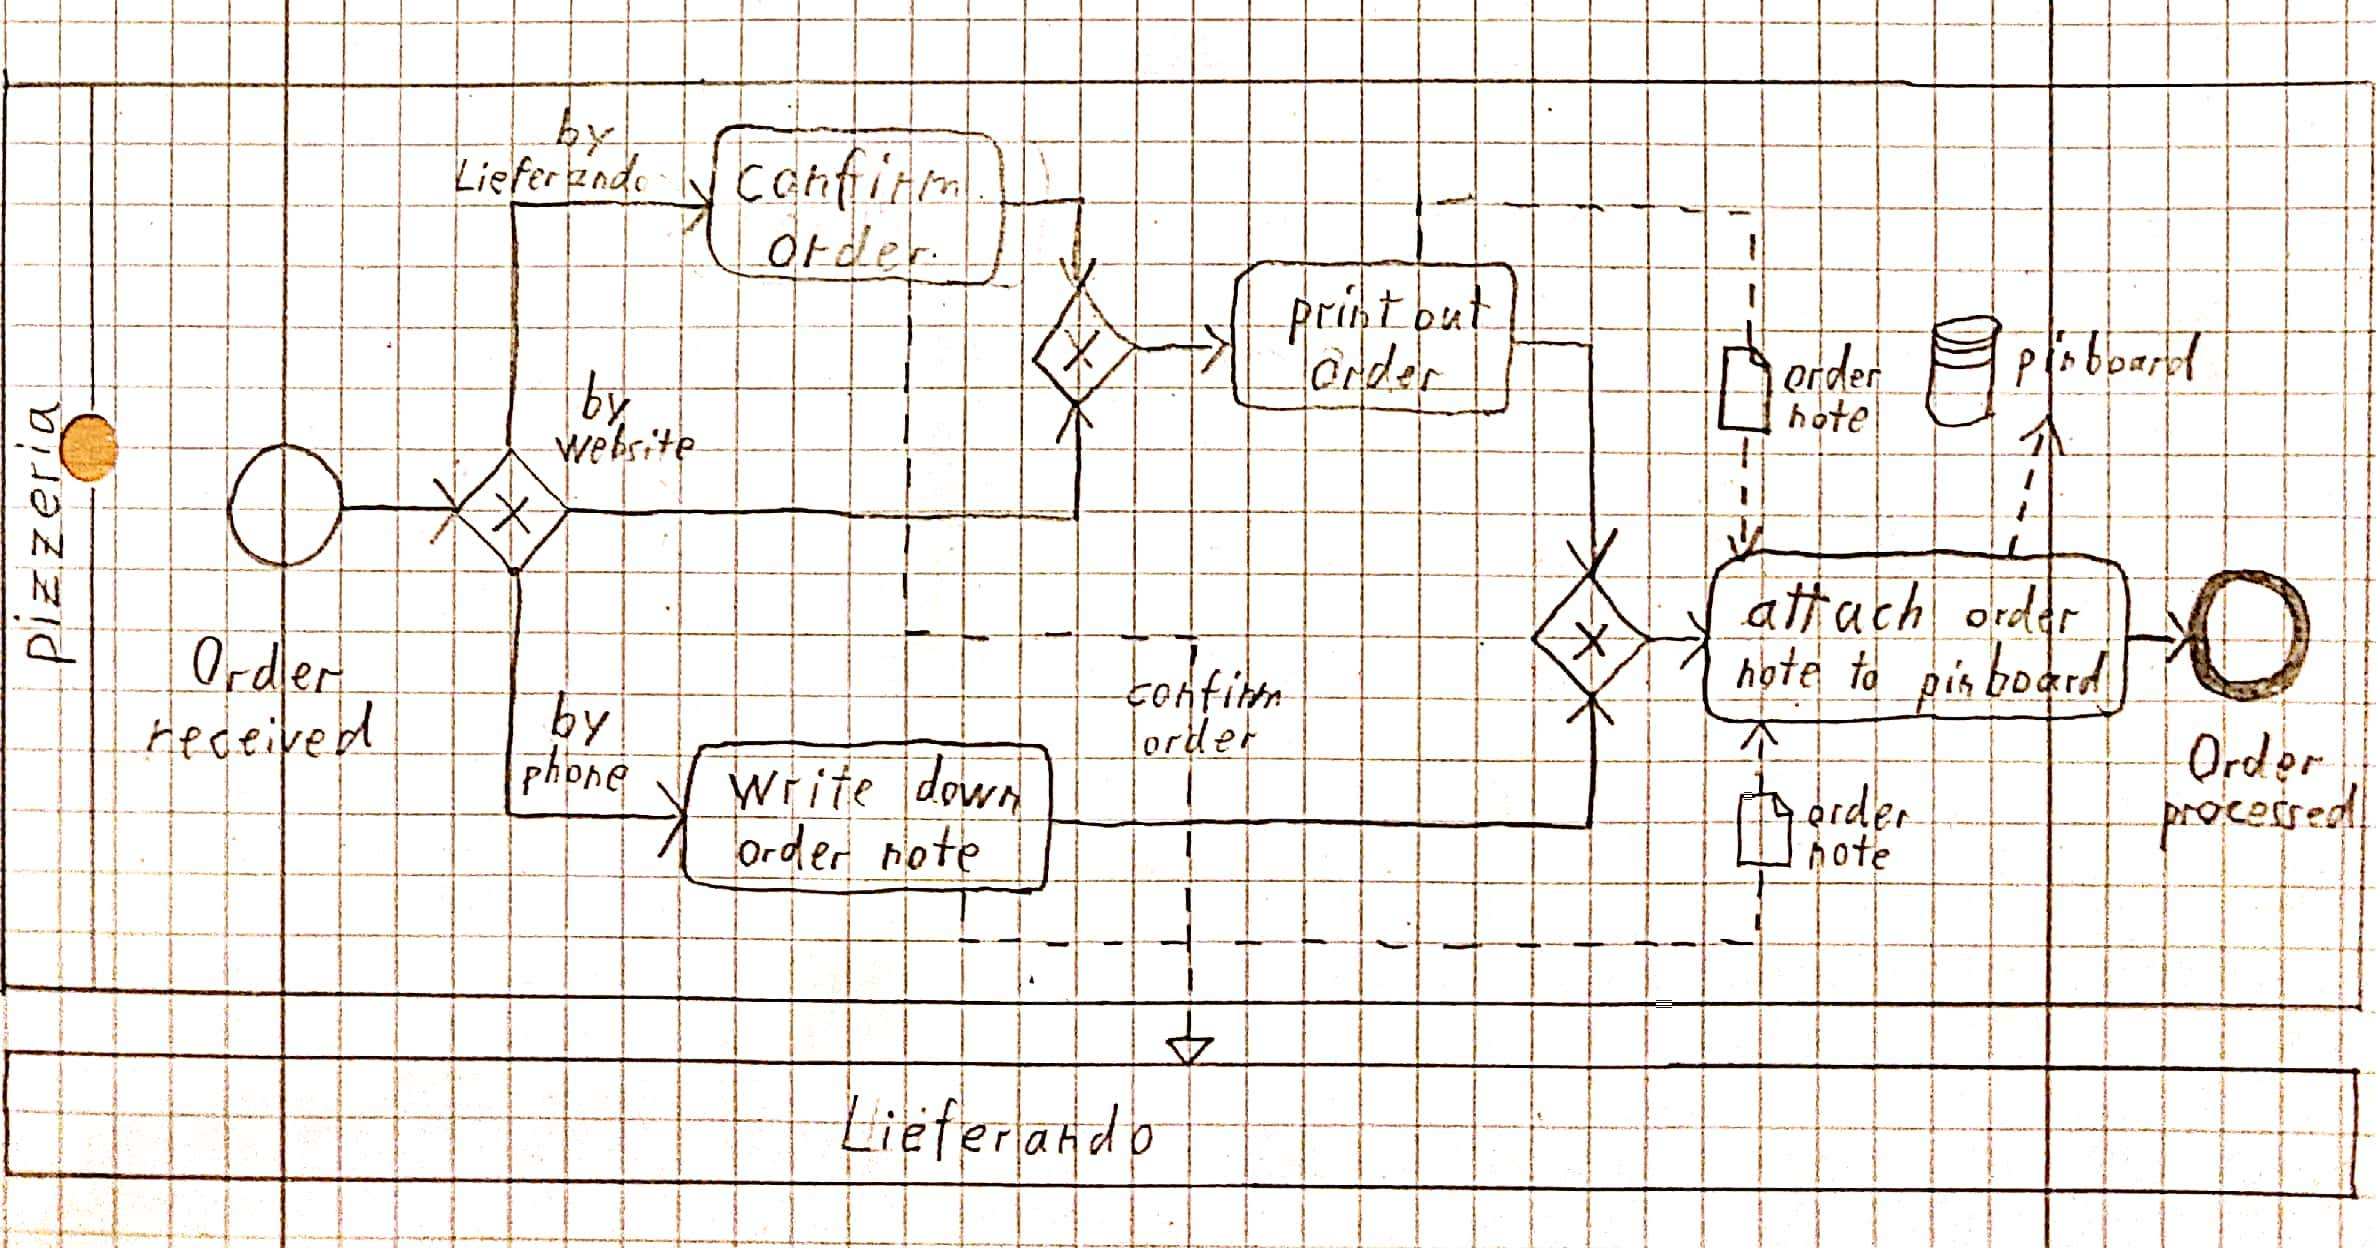Lieferando: (838, 1092, 1161, 1168), (449, 148, 655, 195)
Order: (192, 635, 347, 696), (2186, 728, 2327, 787)
Write: (724, 762, 878, 816)
attach: (1743, 578, 1928, 637)
by: (548, 687, 614, 750), (574, 368, 636, 429), (552, 108, 621, 160)
confirm: (734, 148, 970, 214), (1124, 665, 1285, 715)
down: (915, 753, 1025, 817)
note: (878, 824, 985, 874), (1732, 644, 1828, 698), (1806, 833, 1895, 875), (1787, 398, 1873, 437)
order: (768, 215, 941, 278), (1311, 346, 1443, 399), (1960, 585, 2082, 637), (1804, 780, 1916, 835), (732, 824, 853, 871), (1139, 717, 1260, 761), (1784, 346, 1886, 395)
out: (1408, 281, 1491, 343)
phone: (519, 743, 633, 798)
pinboard: (1916, 641, 2115, 709), (2007, 327, 2206, 390)
pizzeria: (11, 402, 82, 665)
print: (1281, 281, 1406, 347)
processed: (2150, 783, 2360, 850)
received: (141, 699, 379, 762)
to: (1843, 641, 1883, 696)
website: (552, 421, 699, 470)
